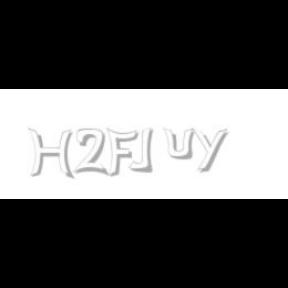2: (73, 128, 107, 176)
F: (106, 128, 138, 178)
H: (28, 128, 74, 180)
J: (128, 128, 153, 172)
u: (164, 128, 198, 160)
y: (192, 128, 232, 172)
